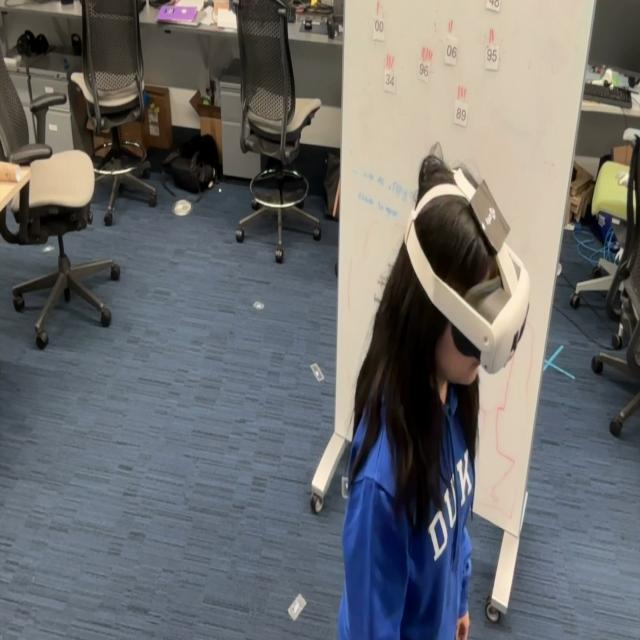Headset: (403, 161, 531, 375)
UnityLogo: (468, 175, 511, 255)
